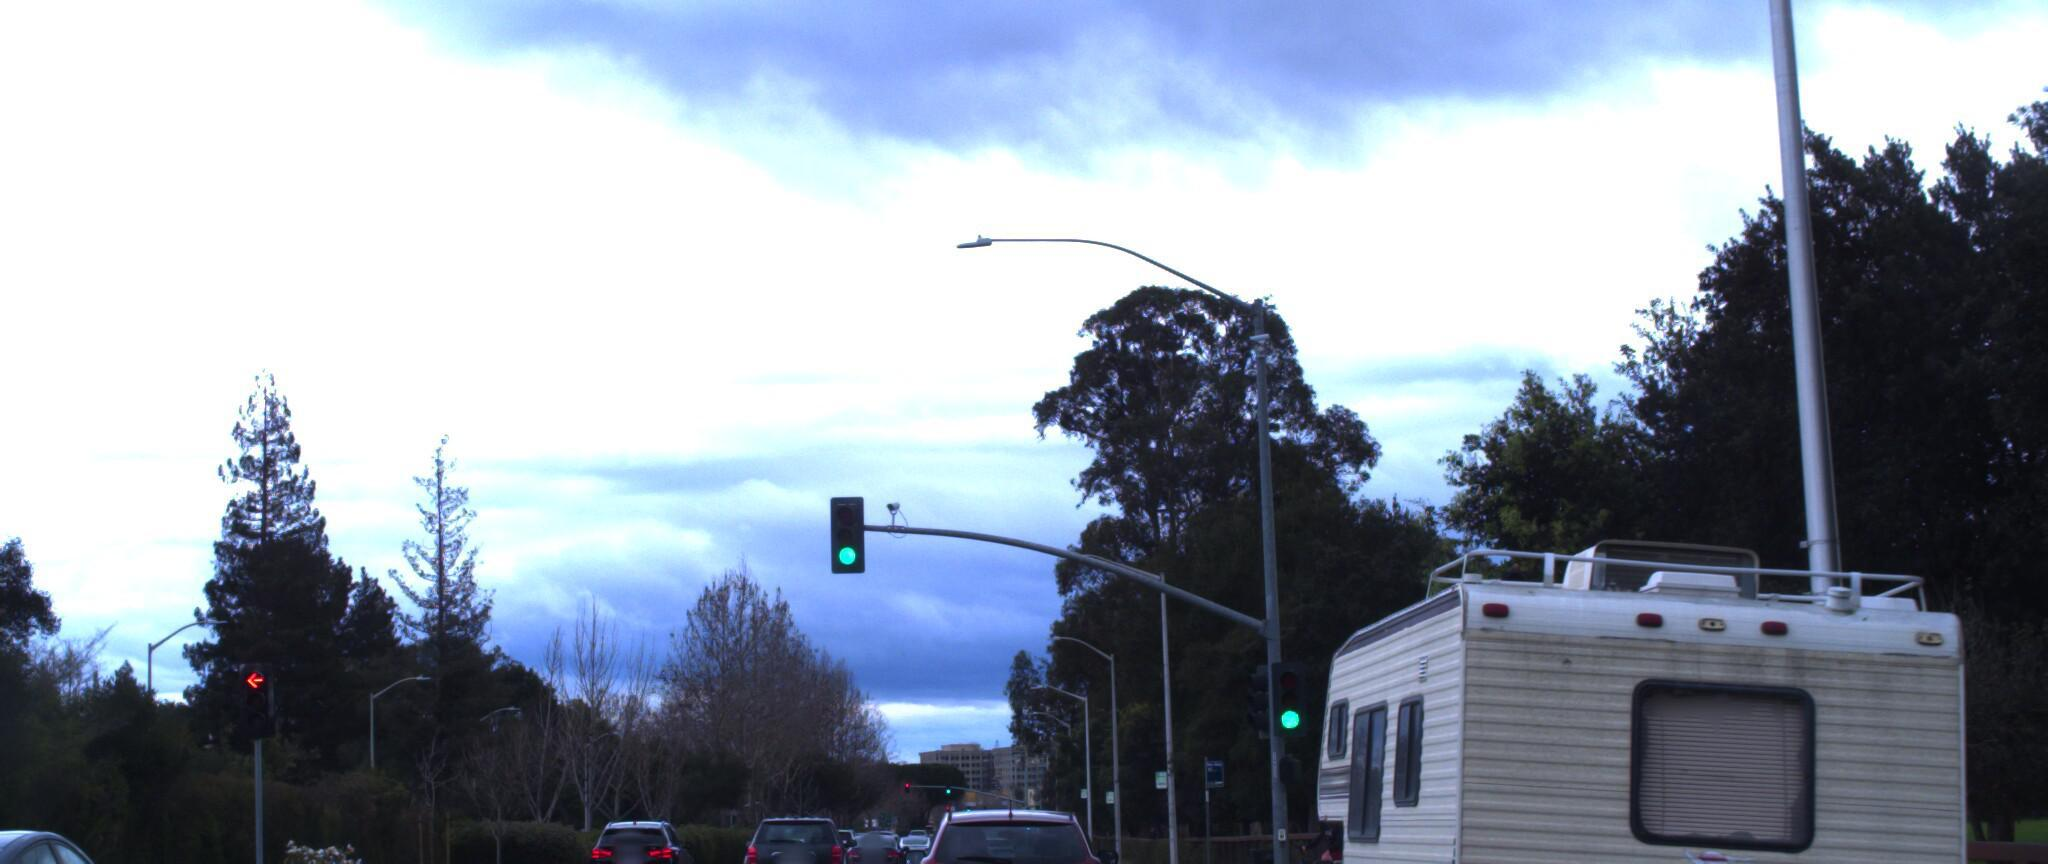car: (886, 808, 1102, 864), (0, 810, 202, 864), (571, 804, 691, 864), (730, 807, 856, 864)
other_vehicle: (1273, 439, 2022, 864)
